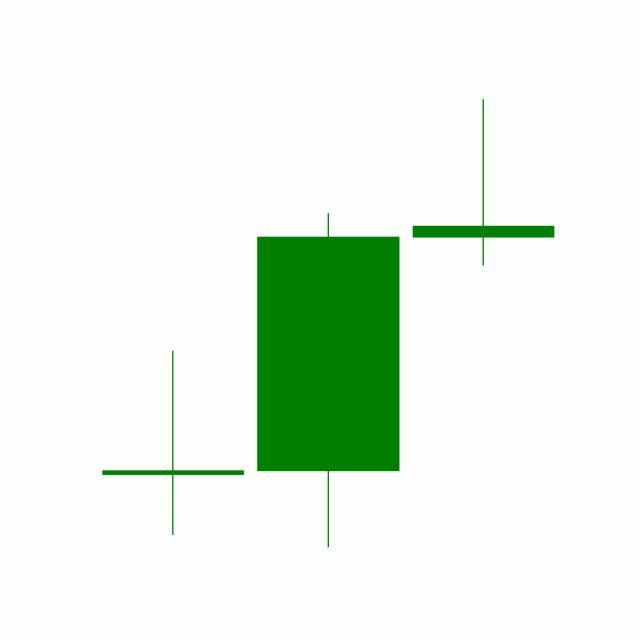Spinning Top: (406, 97, 562, 268)
